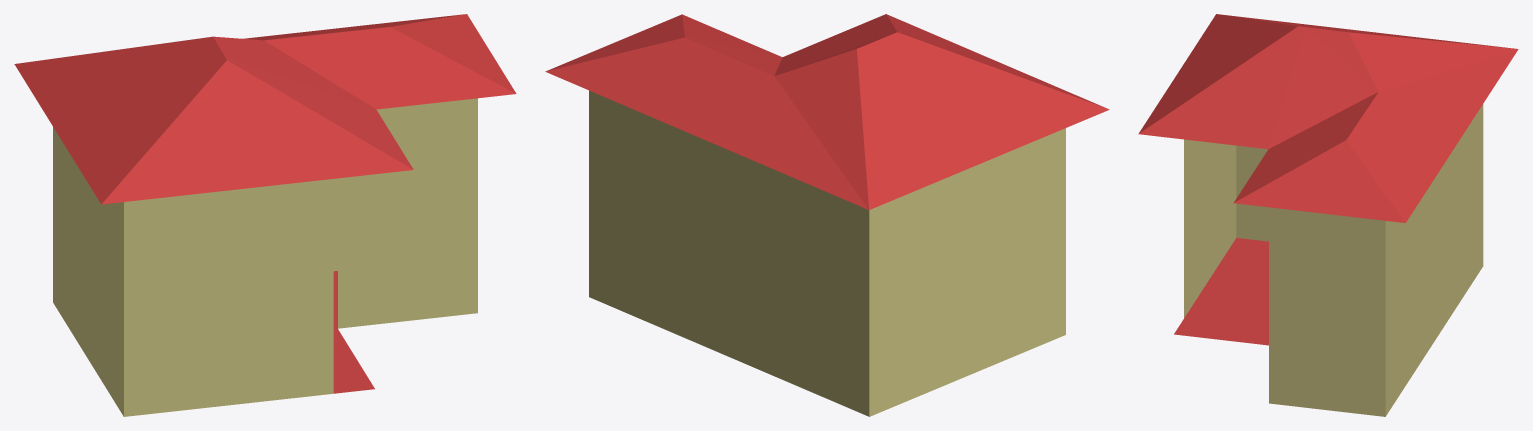
3 renders of one model, left to right at view 1: azimuth 30°, elevation 25°; view 2: azimuth 150°, elevation 25°; view 3: azimuth 270°, elevation 25°, orthographic. The views are drawn at different scales.
Parts seen in each view (by area): view 1: group_5, group_3, group_4, group_6; view 2: group_5, group_3, group_4; view 3: group_5, group_3, group_6, group_4.
Part boxes in pixels (<box>): group_5: <box>53,98,477,416</box>; group_3: <box>14,14,515,204</box>; group_4: <box>338,14,516,169</box>; group_6: <box>333,271,374,393</box>; group_5: <box>589,90,1065,416</box>; group_3: <box>545,14,1109,209</box>; group_4: <box>547,14,900,70</box>; group_5: <box>1184,104,1483,416</box>; group_3: <box>1138,14,1518,222</box>; group_6: <box>1174,238,1268,345</box>; group_4: <box>1138,103,1404,222</box>.
Bounding box in the file's own units: 17.14 × 13.18 × 10.42.
